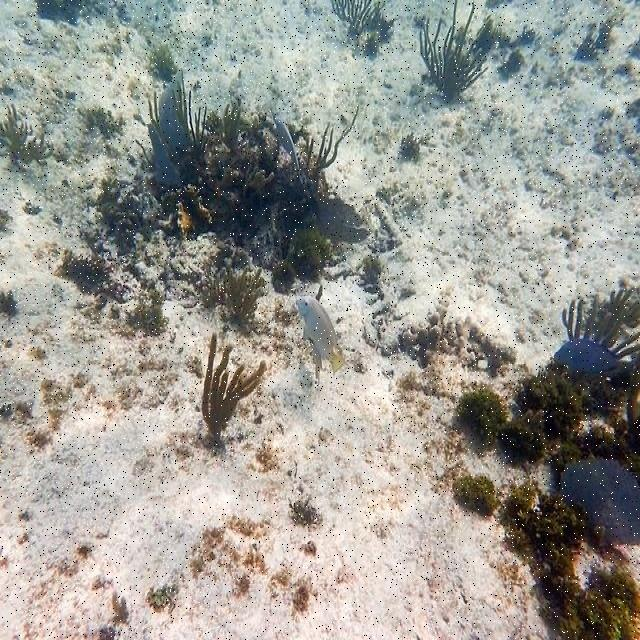aquatic plants: (451, 472, 639, 639), (449, 357, 639, 477), (274, 225, 333, 291), (0, 103, 54, 165)
fish: (556, 459, 639, 544), (295, 296, 349, 376), (553, 338, 636, 377), (272, 114, 305, 188)
reefs: (148, 70, 362, 242), (200, 335, 266, 451), (420, 2, 499, 98), (561, 284, 639, 356), (198, 264, 268, 328), (332, 0, 386, 37)
